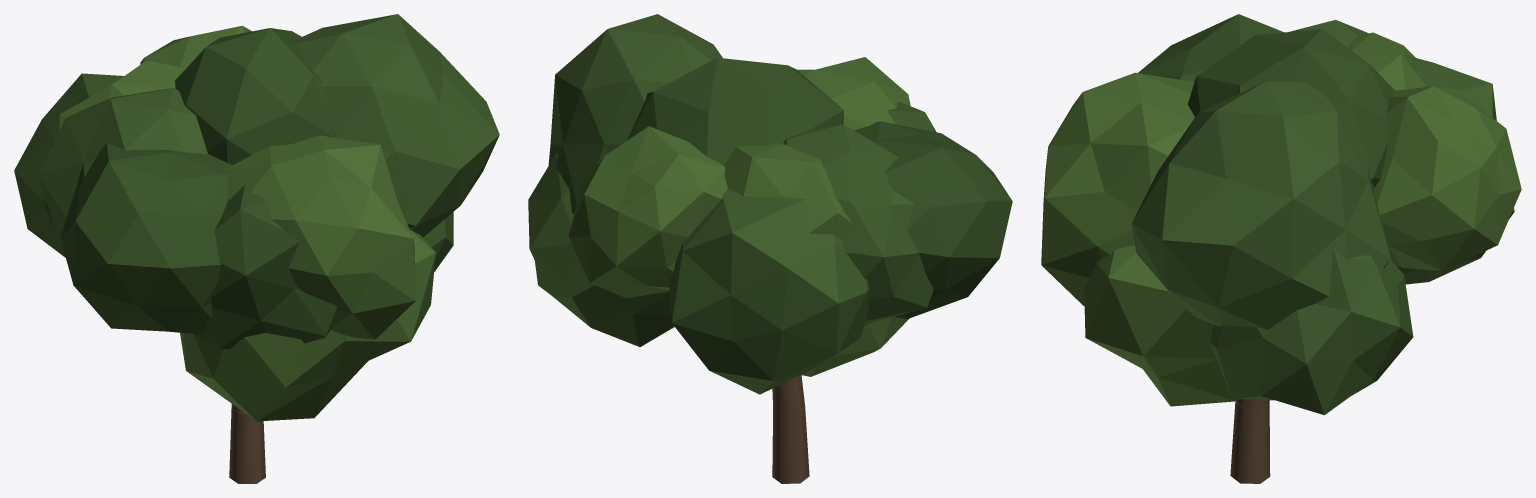
Rendered from derevo_dub.glb.
The picture shows the model from 3 angles, left to right: view 1: azimuth 30°, elevation 25°; view 2: azimuth 150°, elevation 25°; view 3: azimuth 270°, elevation 25°; orthographic projection. The views are drawn at different scales.
Visible parts, largest first — view 1: leaves (×11), trunk; view 2: leaves (×11), trunk (×2); view 3: leaves (×10), trunk.
Part boxes in pixels (bbox=[...]): leaves (×11): bbox=[14, 14, 499, 421]; trunk: bbox=[229, 408, 265, 483]; leaves (×11): bbox=[528, 14, 1012, 394]; trunk (×2): bbox=[772, 375, 809, 483]; leaves (×10): bbox=[1041, 14, 1521, 415]; trunk: bbox=[1230, 401, 1270, 483].
Size of the model in its own units: 11.47 by 10.91 by 10.43.
